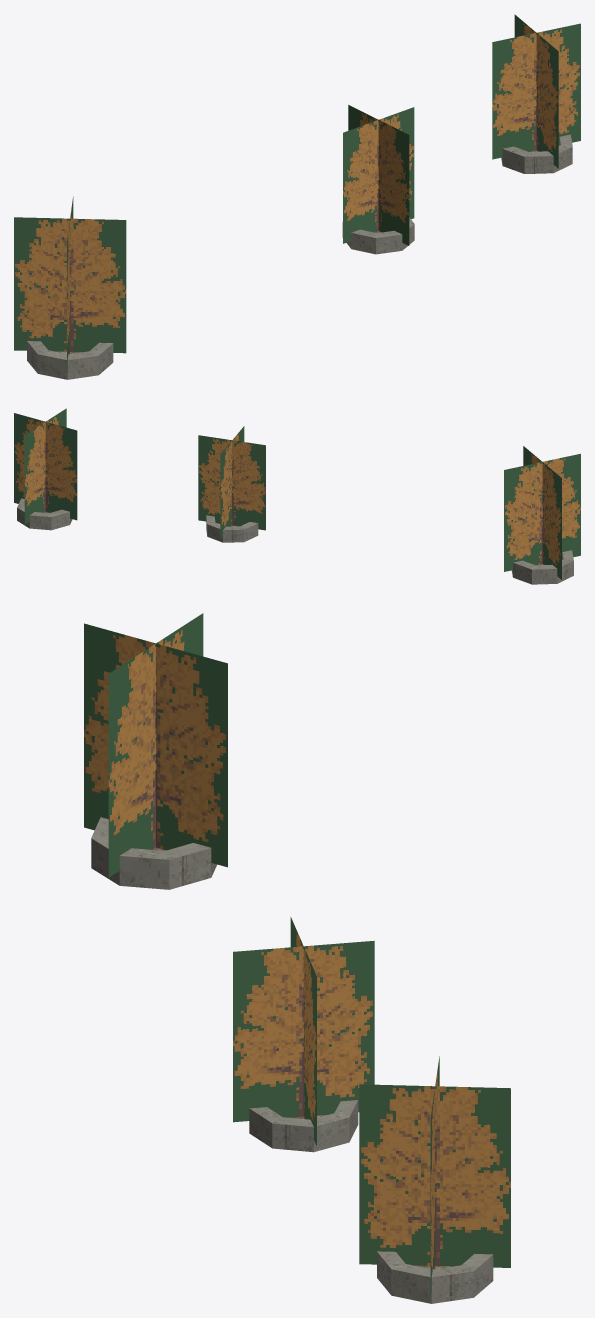
The model's file is procgen-procpain-tree-park-large-xm1zm3.obj.
3 views of the same model, one above another, from view 1: azimuth 30°, elevation 25°; view 2: azimuth 150°, elevation 25°; view 3: azimuth 270°, elevation 25° (orthographic). The views are drawn at different scales.
Size of the model in its own units: 35.37 by 7.54 by 13.31.
